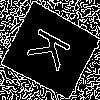K: (25, 26, 81, 77)
